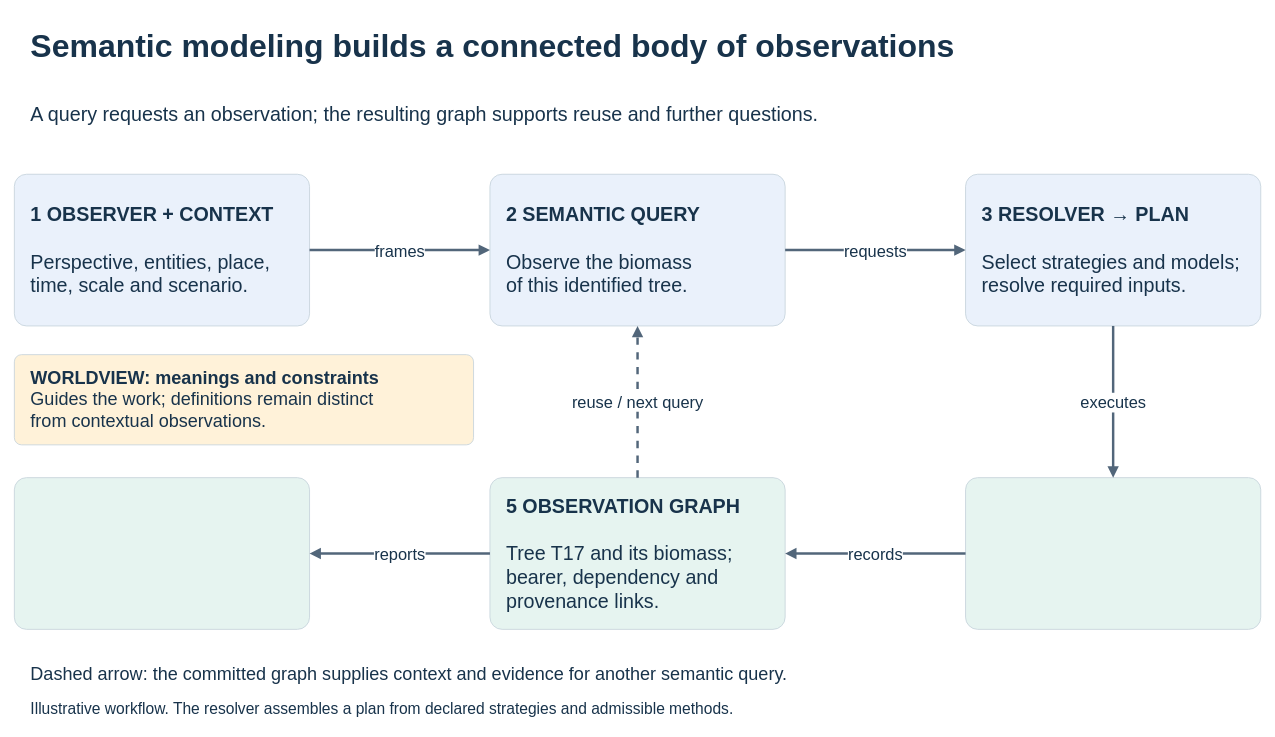
Image size: 1275x737. Some labels were removed from this diagram. The centre of each missing label's shape, as x and y in pixels:
4 CONTEXTUALIZATION Execute the selected method and commit the observation.: the point at 1113,553
6 REPORT + EXPLORE Inspect meaningful results and ask further questions.: the point at 162,553
